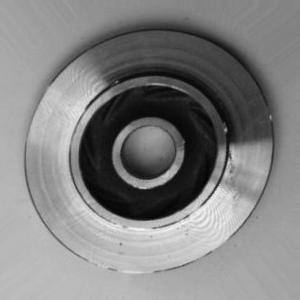defect: (213, 106, 243, 204)
